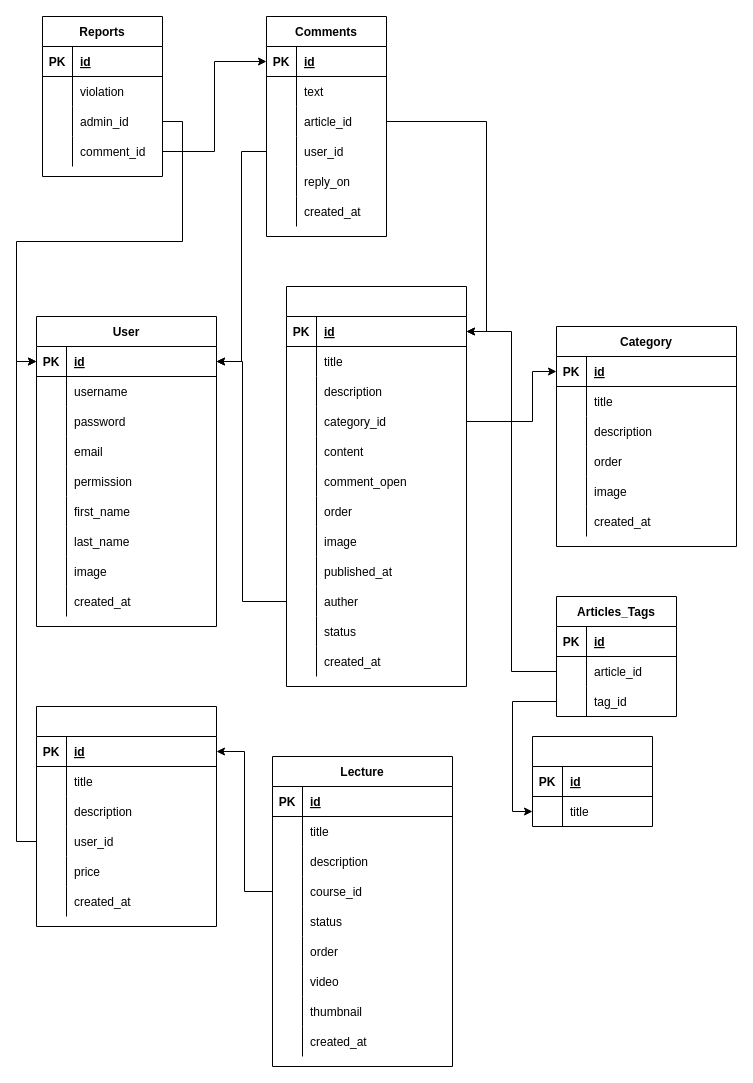
Some shapes in this 753 by 1083 pixel diagram are drawn without their labels. Here are the shapes that lost their labels. From the top down, the box of each, then its label:
(286, 286, 466, 686): Article
(532, 736, 652, 826): Tags
(36, 706, 216, 926): Course
